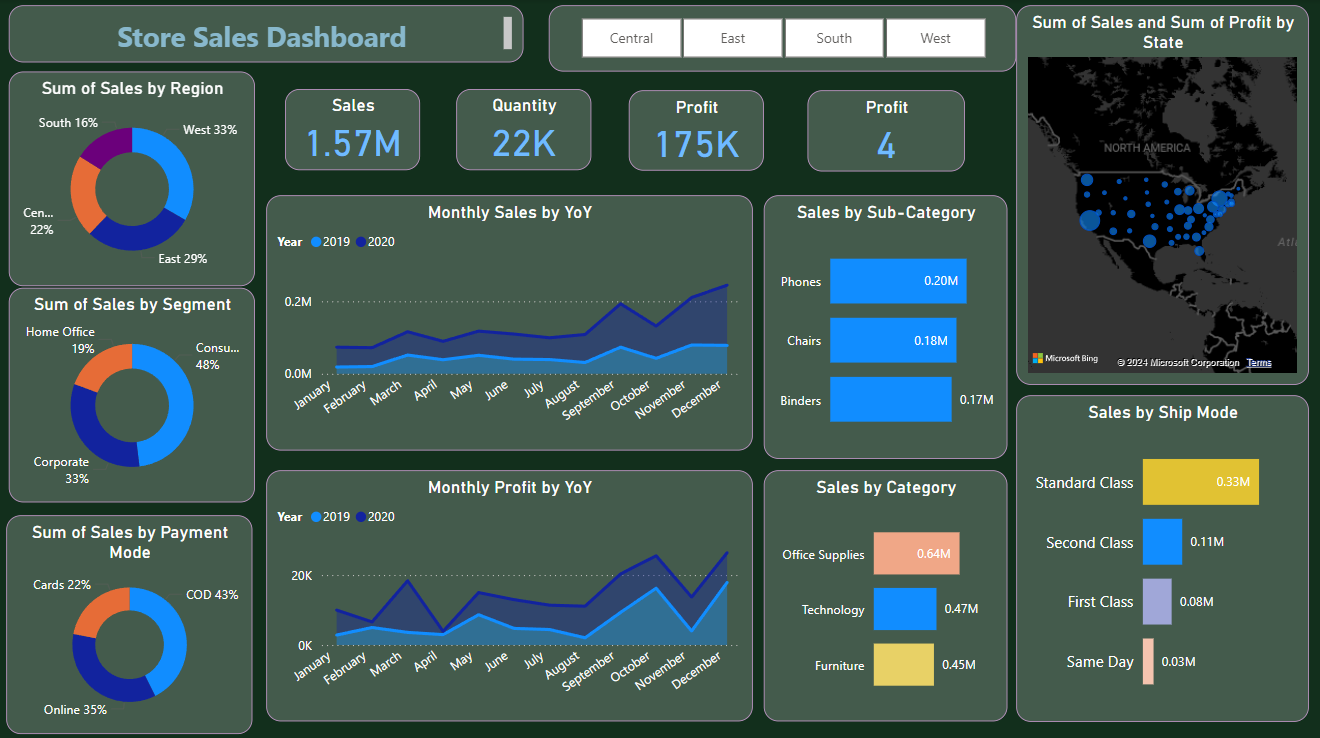

Layout of this report page (visuals, bound fields, positions):
{"tool":"powerbi","page":{"name":"Page 1","canvas":[1280,720],"ordinal":0},"visuals":[{"type":"clusteredBarChart","title":"Sales by Category","fields":{"Category":["SuperStore_Sales_Dataset.Category"],"Y":["Sum(SuperStore_Sales_Dataset.Sales)"]},"box":[742,454.8,235.3,242.5],"z":0},{"type":"clusteredBarChart","title":"Sales by Sub-Category","fields":{"Y":["Sum(SuperStore_Sales_Dataset.Sales)"],"Category":["SuperStore_Sales_Dataset.Sub-Category"]},"box":[742,189.4,235.3,254.6],"z":1000},{"type":"clusteredBarChart","title":"Sales by Ship Mode","fields":{"Y":["Sum(SuperStore_Sales_Dataset.Sales)"],"Category":["SuperStore_Sales_Dataset.Ship Mode"]},"box":[985.7,382.4,282.3,314.9],"z":2000},{"type":"stackedAreaChart","title":"Monthly Sales by YoY","fields":{"Y":["Sum(SuperStore_Sales_Dataset.Sales)"],"Category":["SuperStore_Sales_Dataset.Order Date.Variation.Date Hierarchy.Month","SuperStore_Sales_Dataset.Order Date.Variation.Date Hierarchy.Day"],"Series":["SuperStore_Sales_Dataset.Order Date.Variation.Date Hierarchy.Year"]},"box":[261.8,189.4,469.3,246.1],"z":3000},{"type":"stackedAreaChart","title":"Monthly Profit by YoY","fields":{"Category":["SuperStore_Sales_Dataset.Order Date.Variation.Date Hierarchy.Month","SuperStore_Sales_Dataset.Order Date.Variation.Date Hierarchy.Day"],"Series":["SuperStore_Sales_Dataset.Order Date.Variation.Date Hierarchy.Year"],"Y":["Sum(SuperStore_Sales_Dataset.Profit)"]},"box":[261.8,454.8,469.3,242.5],"z":4000},{"type":"map","fields":{"Category":["SuperStore_Sales_Dataset.State"],"Size":["Sum(SuperStore_Sales_Dataset.Sales)"]},"box":[985.7,6,282.3,366.8],"z":5000},{"type":"donutChart","fields":{"Category":["SuperStore_Sales_Dataset.Segment"],"Y":["Sum(SuperStore_Sales_Dataset.Sales)"]},"box":[13.3,278.7,237.7,207.5],"z":6000},{"type":"donutChart","fields":{"Category":["SuperStore_Sales_Dataset.Payment Mode"],"Y":["Sum(SuperStore_Sales_Dataset.Sales)"]},"box":[10.9,498.3,237.7,211.1],"z":7000},{"type":"slicer","fields":{"Values":["SuperStore_Sales_Dataset.Region"]},"box":[534.5,6,451.2,63.9],"z":8000},{"type":"textbox","box":[13.3,6,497.1,55.5],"z":9000},{"type":"card","title":"Sales","fields":{"Values":["Sum(SuperStore_Sales_Dataset.Sales)"]},"box":[279.9,86.9,130.3,78.4],"z":10000},{"type":"card","title":"Quantity","fields":{"Values":["Sum(SuperStore_Sales_Dataset.Quantity)"]},"box":[445.2,86.9,130.3,78.4],"z":11000},{"type":"card","title":"Profit","fields":{"Values":["Sum(SuperStore_Sales_Dataset.Profit)"]},"box":[611.7,88.1,130.3,77.2],"z":12000},{"type":"card","title":"Profit","fields":{"Values":["Avg(SuperStore_Sales_Dataset.AvgDelivery)"]},"box":[784.2,88.1,152,78.4],"z":13000},{"type":"donutChart","fields":{"Category":["SuperStore_Sales_Dataset.Region"],"Y":["Sum(SuperStore_Sales_Dataset.Sales)"]},"box":[13.3,70,237.7,207.5],"z":14000}]}

Visuals, with their boxes in screenshot pixels (x1, y1, x2, y2), scaled from the page's 1280x720 canvas onto the 1320x738 screenshot:
"Sales by Category" clusteredBarChart: 765, 466, 1008, 715
"Sales by Sub-Category" clusteredBarChart: 765, 194, 1008, 455
"Sales by Ship Mode" clusteredBarChart: 1017, 392, 1308, 715
"Monthly Sales by YoY" stackedAreaChart: 270, 194, 754, 446
"Monthly Profit by YoY" stackedAreaChart: 270, 466, 754, 715
map - SuperStore_Sales_Dataset.State x Sum(SuperStore_Sales_Dataset.Sales): 1017, 6, 1308, 382
donutChart - SuperStore_Sales_Dataset.Segment x Sum(SuperStore_Sales_Dataset.Sales): 14, 286, 259, 498
donutChart - SuperStore_Sales_Dataset.Payment Mode x Sum(SuperStore_Sales_Dataset.Sales): 11, 511, 256, 727
slicer - SuperStore_Sales_Dataset.Region: 551, 6, 1017, 72
textbox: 14, 6, 526, 63
"Sales" card: 289, 89, 423, 169
"Quantity" card: 459, 89, 593, 169
"Profit" card: 631, 90, 765, 169
"Profit" card: 809, 90, 965, 171
donutChart - SuperStore_Sales_Dataset.Region x Sum(SuperStore_Sales_Dataset.Sales): 14, 72, 259, 284
